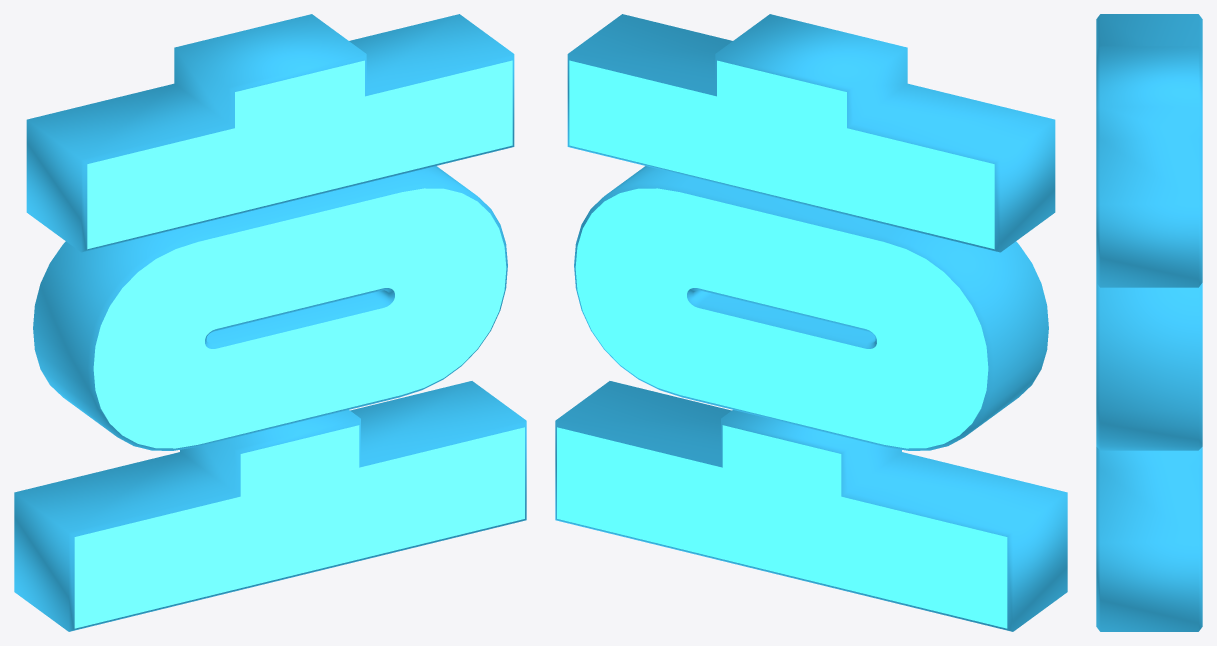
3 views of the same model, side by side, from view 1: azimuth 30°, elevation 25°; view 2: azimuth 150°, elevation 25°; view 3: azimuth 270°, elevation 25° (orthographic). The views are drawn at different scales.
Parts seen in each view (by area): view 1: glyph; view 2: glyph; view 3: glyph.
Boxes of the visible parts, left/top/right/bottom form: glyph: left=14, top=14, right=526, bottom=631; glyph: left=555, top=14, right=1067, bottom=631; glyph: left=1096, top=14, right=1202, bottom=631.
Size of the model in its own units: 0.0726 by 0.0766 by 0.0162.
